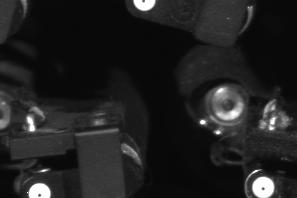fiber: (246, 171, 280, 198), (22, 177, 54, 198), (131, 1, 162, 19)
